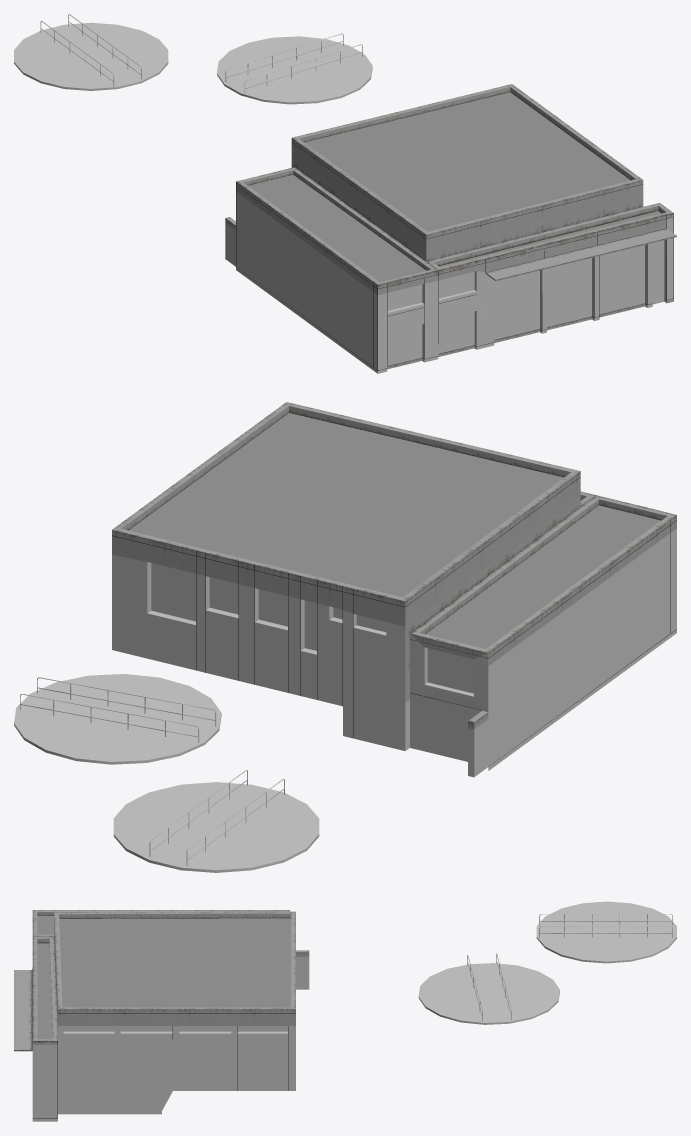
Rendered from Sludge_Dewatering_FBX2009_km.fbx.
3 views of the same model, one above another, from view 1: azimuth 30°, elevation 25°; view 2: azimuth 150°, elevation 25°; view 3: azimuth 270°, elevation 25° (orthographic). The views are drawn at different scales.
Parts seen in each view (by area): view 1: Sludge_Dewatering_km; view 2: Sludge_Dewatering_km; view 3: Sludge_Dewatering_km.
Boxes of the visible parts, <box> form: Sludge_Dewatering_km: <box>14,14,676,373</box>; Sludge_Dewatering_km: <box>14,402,676,872</box>; Sludge_Dewatering_km: <box>14,901,676,1121</box>.
Bounding box in the file's own units: 26.97 × 8.91 × 51.03.
